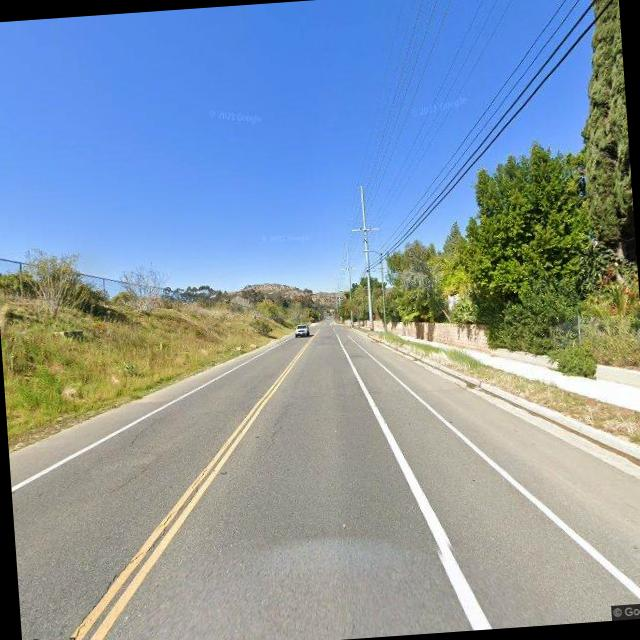pothole: (56, 469, 218, 640)
